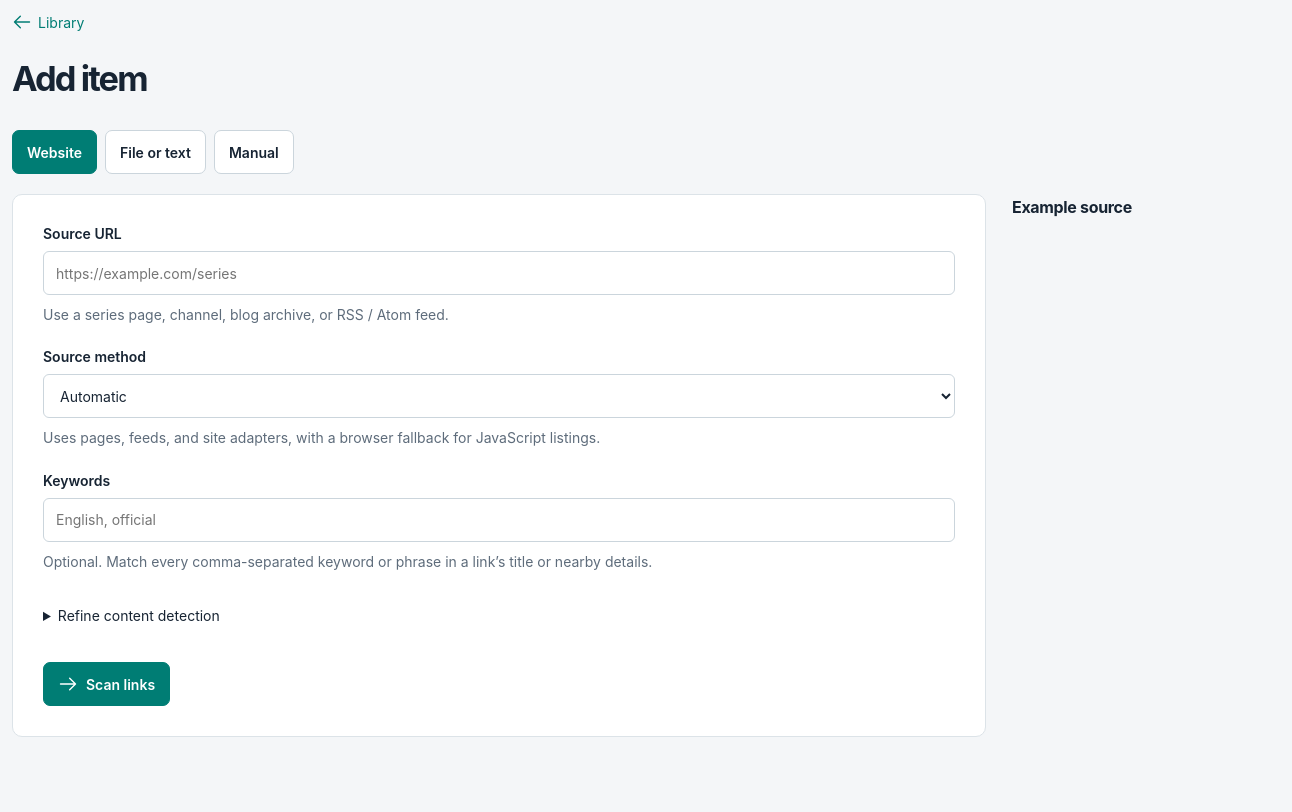
Test: Steam news URLs automatically select the news API
This screenshot has width=1292, height=812.
In the field labelled "Source URL": x=499, y=273 x1=43 y1=251 x2=955 y2=295, type "https://store.steampowered.com/news/app/1623730"
Wait 400 ms
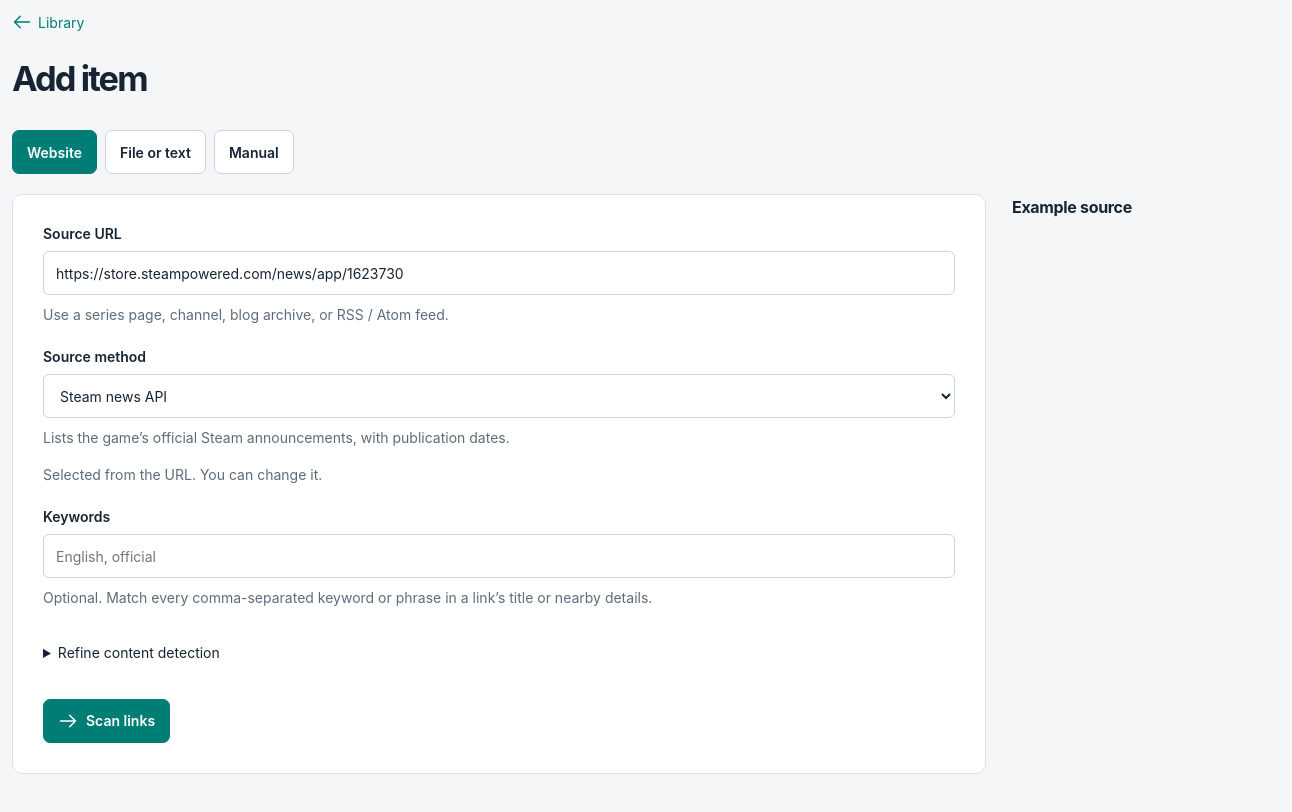
expect the dropdown labelled "Source method" shows "Steam news API": met, box x1=43 y1=374 x2=955 y2=418
expect the text "official Steam announcements" is shown: met, box x1=43 y1=429 x2=510 y2=446
